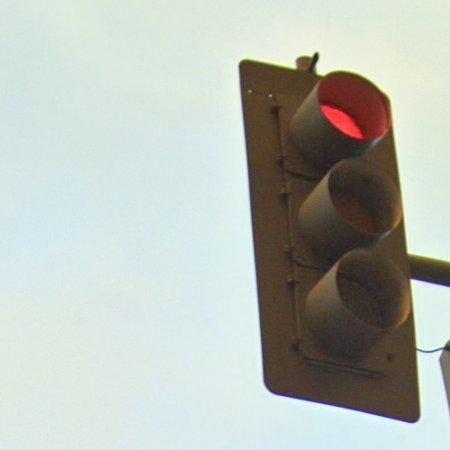traffic lights: (235, 54, 422, 424)
